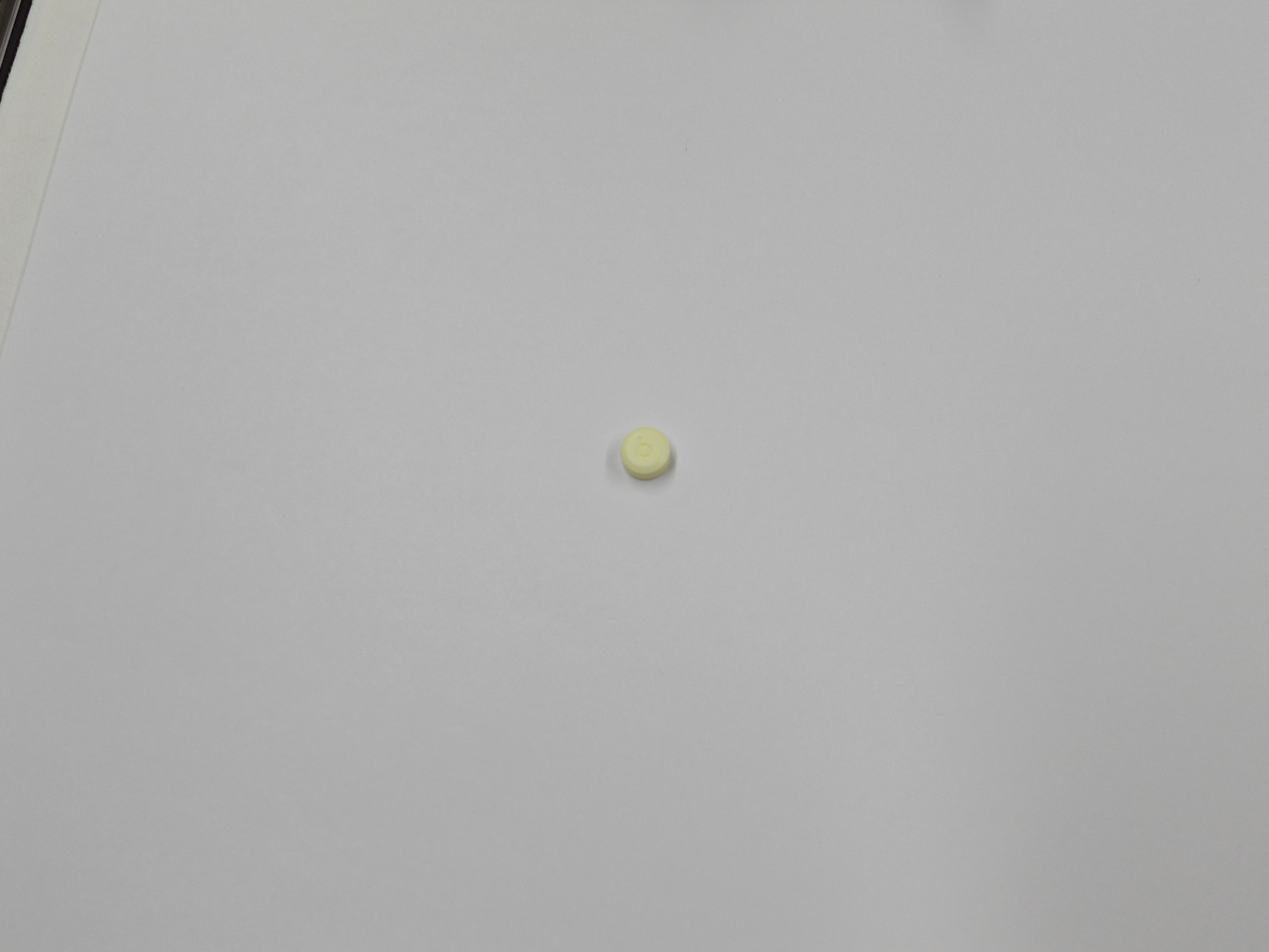Pill: (614, 424, 679, 485)
